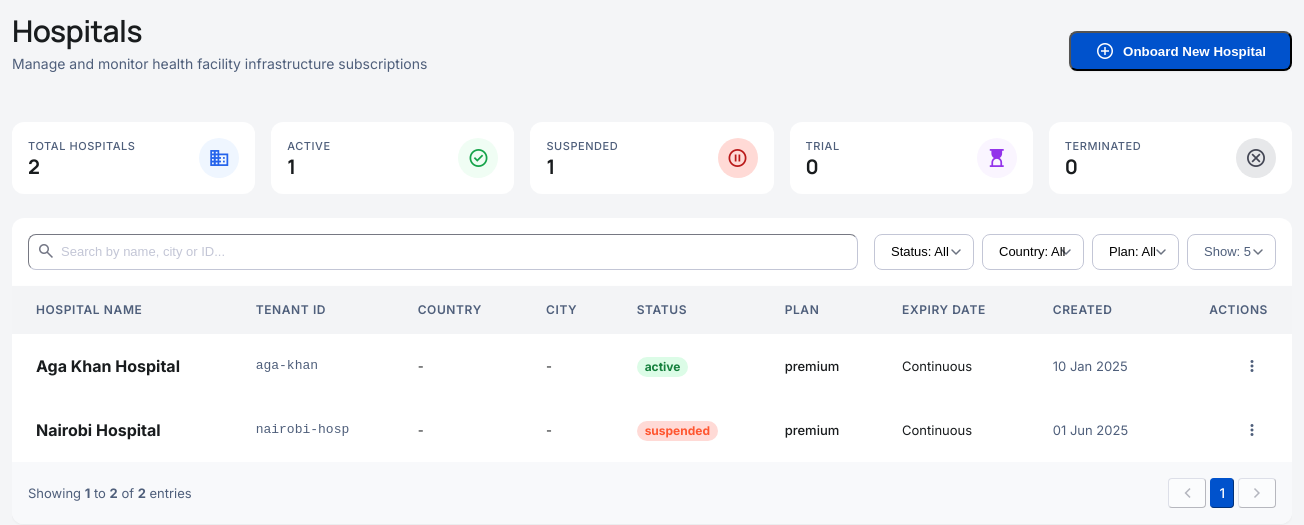
Test case: TenantManagementPage › applies search filters correctly
Expected: the text "Aga Khan Hospital" is shown, [12,334,232,398]
# Filter down to Nairobi
Type "Nairobi" into the field with placeholder "Search by name, city or ID..." at (443, 252), box [28,234,858,270]
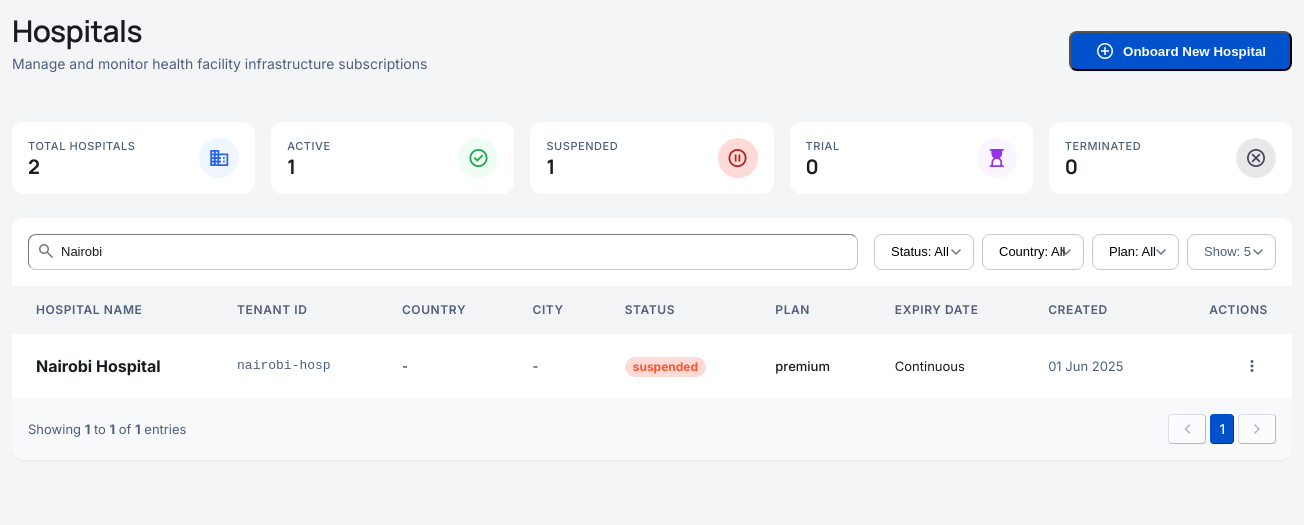
Expected: the text "Nairobi Hospital" is shown, [12,334,213,398]
Now the text "Aga Khan Hospital" is gone
